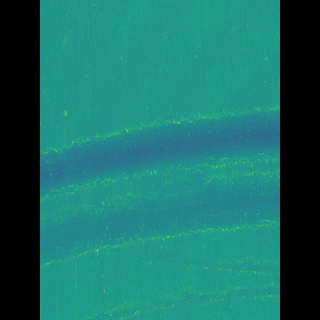Loch: (70, 104, 249, 267), (109, 276, 250, 320)
